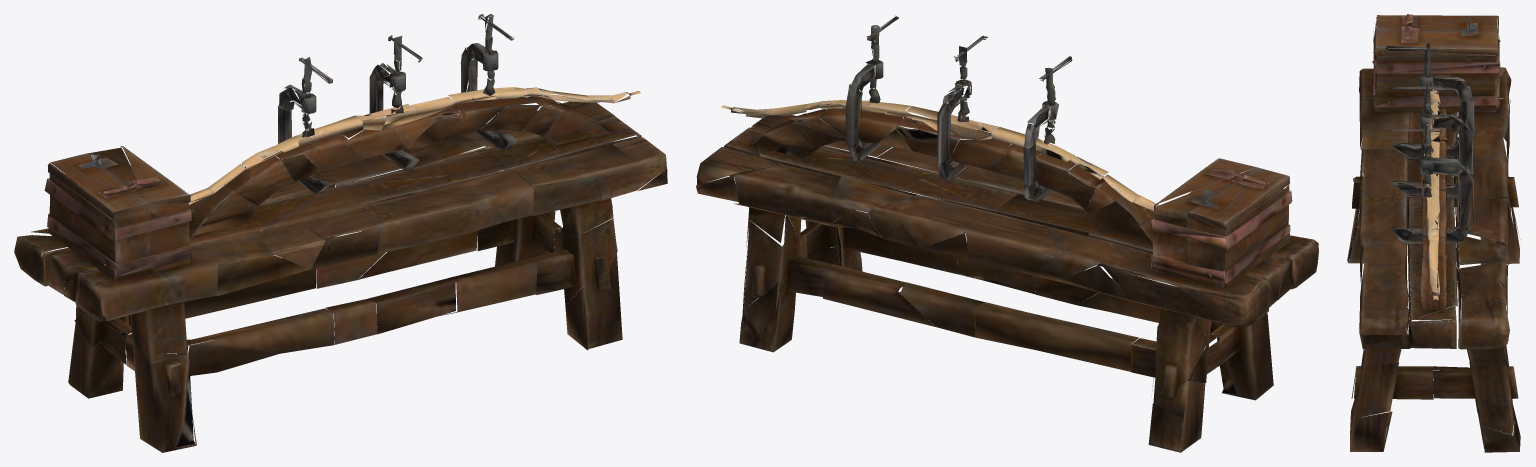
File: bowbench.glb
3 views of the same model, side by side, from view 1: azimuth 30°, elevation 25°; view 2: azimuth 150°, elevation 25°; view 3: azimuth 270°, elevation 25° (orthographic). The views are drawn at different scales.
Parts seen in each view (by area): view 1: Prop_bench_meshy; view 2: Prop_bench_meshy; view 3: Prop_bench_meshy.
Part boxes in pixels (x1,y1,x2,y2): Prop_bench_meshy: [14, 14, 667, 452]; Prop_bench_meshy: [696, 15, 1318, 452]; Prop_bench_meshy: [1347, 14, 1520, 452].
Size of the model in its own units: 1.83 by 0.9528 by 0.5183.
Materials: 1 (1 with a texture image).
